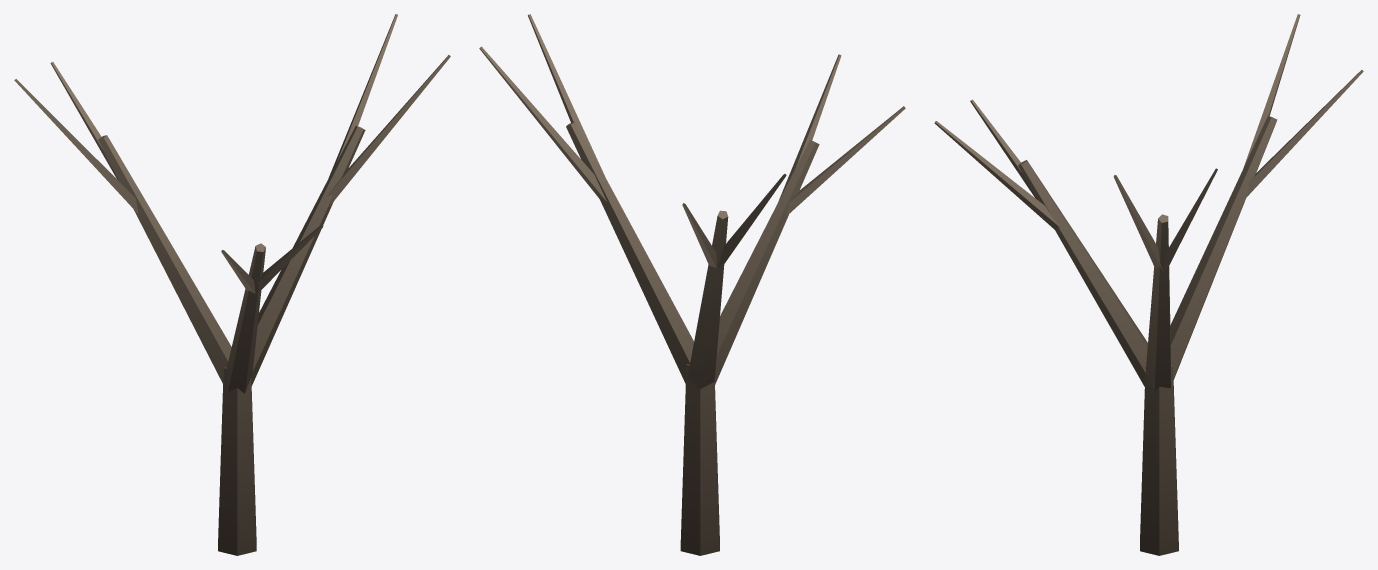
The model's file is DeadFruitTree.fbx.
The picture shows the model from 3 angles, left to right: view 1: azimuth 30°, elevation 25°; view 2: azimuth 150°, elevation 25°; view 3: azimuth 270°, elevation 25°; orthographic projection.
Visible parts, largest first — view 1: DeadFruitTree_LOD0; view 2: DeadFruitTree_LOD0; view 3: DeadFruitTree_LOD0.
Part boxes in pixels (bbox=[...]): DeadFruitTree_LOD0: bbox=[14, 14, 450, 555]; DeadFruitTree_LOD0: bbox=[479, 14, 905, 555]; DeadFruitTree_LOD0: bbox=[934, 14, 1363, 555].
Size of what is drawn, in the model's own units: 4.03 by 5.2 by 4.3.
Materials: 1 (1 with a texture image).
